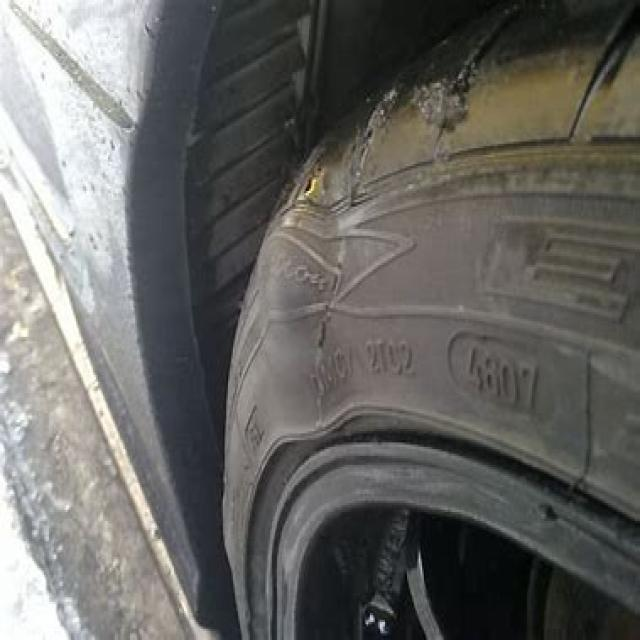Bulge: (249, 179, 349, 375)
